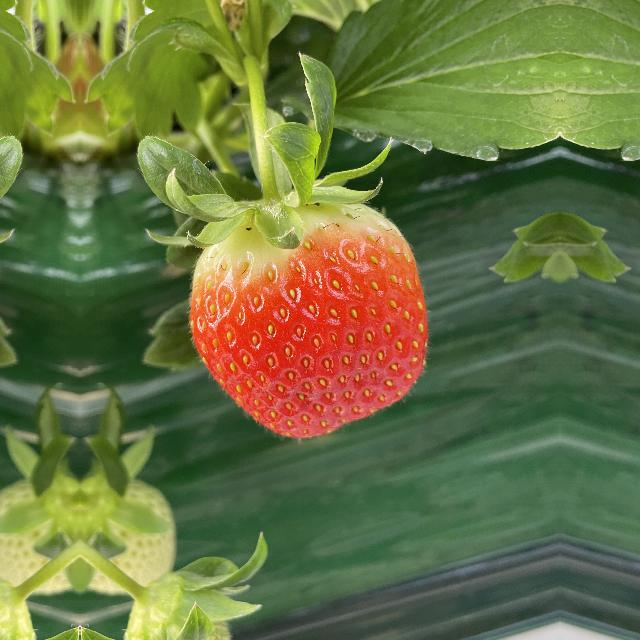Health_100: (182, 183, 434, 443)
